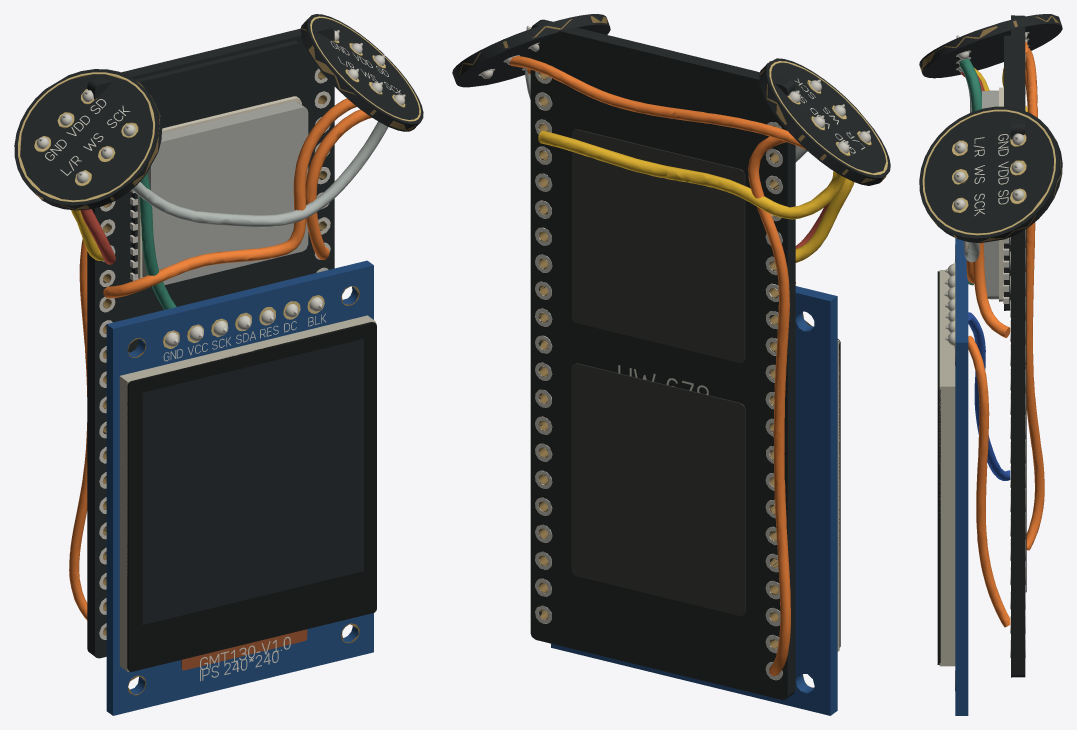
File: zu-prototype.glb
3 renders of one model, left to right at view 1: azimuth 30°, elevation 25°; view 2: azimuth 150°, elevation 25°; view 3: azimuth 270°, elevation 25°, orthographic. The views are drawn at different scales.
Parts seen in each view (by area): view 1: Дисплей GMT130-V1.0, Основная плата HW-678, Две угловые платы микрофонов, Видимые монтажные провода; view 2: Основная плата HW-678, Дисплей GMT130-V1.0, Видимые монтажные провода, Две угловые платы микрофонов; view 3: Две угловые платы микрофонов, Дисплей GMT130-V1.0, Основная плата HW-678, Видимые монтажные провода.
Boxes of the visible parts, x1,y1,x2,y2 form: Дисплей GMT130-V1.0: (106, 260, 376, 715); Основная плата HW-678: (87, 23, 334, 658); Две угловые платы микрофонов: (14, 14, 423, 210); Видимые монтажные провода: (69, 98, 388, 620); Основная плата HW-678: (530, 19, 795, 699); Дисплей GMT130-V1.0: (551, 286, 840, 715); Видимые монтажные провода: (509, 55, 854, 676); Две угловые платы микрофонов: (452, 14, 890, 185); Две угловые платы микрофонов: (919, 14, 1062, 243); Дисплей GMT130-V1.0: (937, 238, 968, 715); Основная плата HW-678: (982, 15, 1026, 677); Видимые монтажные провода: (959, 41, 1044, 627).
Size of the model in its own units: 0.0409 by 0.0618 by 0.0136.
